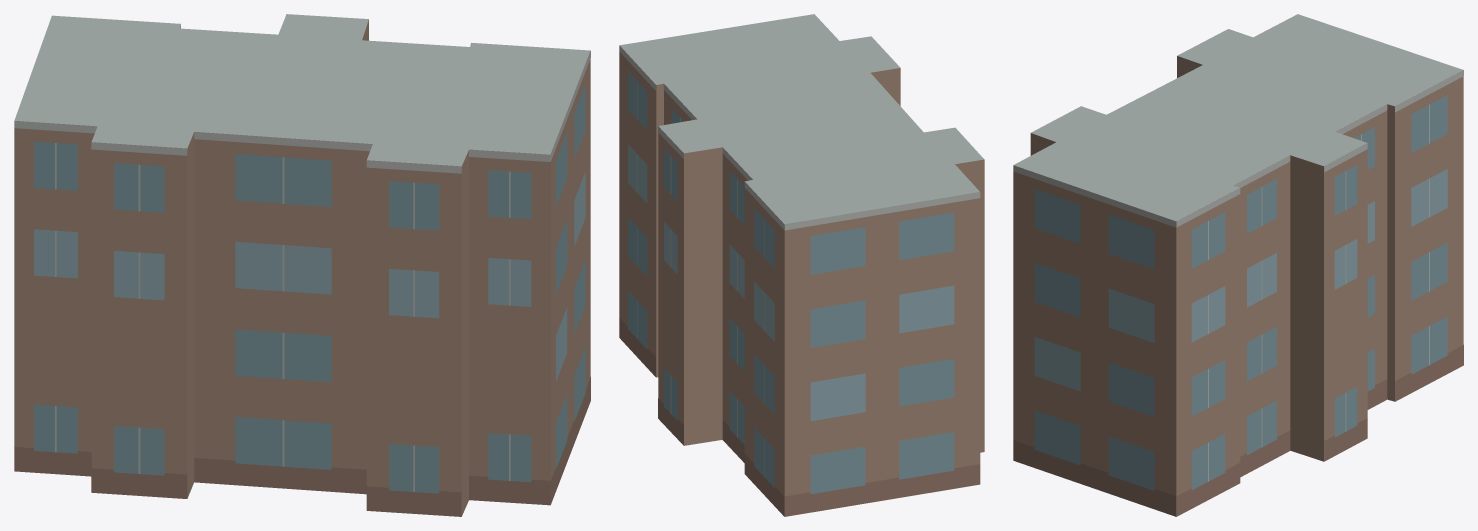
The model's file is survey-upis-32704589.glb.
3 views of the same model, side by side, from view 1: azimuth 30°, elevation 25°; view 2: azimuth 150°, elevation 25°; view 3: azimuth 270°, elevation 25° (orthographic). The views are drawn at different scales.
Parts seen in each view (by area): view 1: survey-upis-32704589.tmp; view 2: survey-upis-32704589.tmp; view 3: survey-upis-32704589.tmp.
Part boxes in pixels (x1,y1,x2,y2): survey-upis-32704589.tmp: [14, 14, 590, 516]; survey-upis-32704589.tmp: [619, 14, 984, 516]; survey-upis-32704589.tmp: [1013, 14, 1463, 516].
Size of the model in its own units: 17.47 by 11.6 by 16.04.
